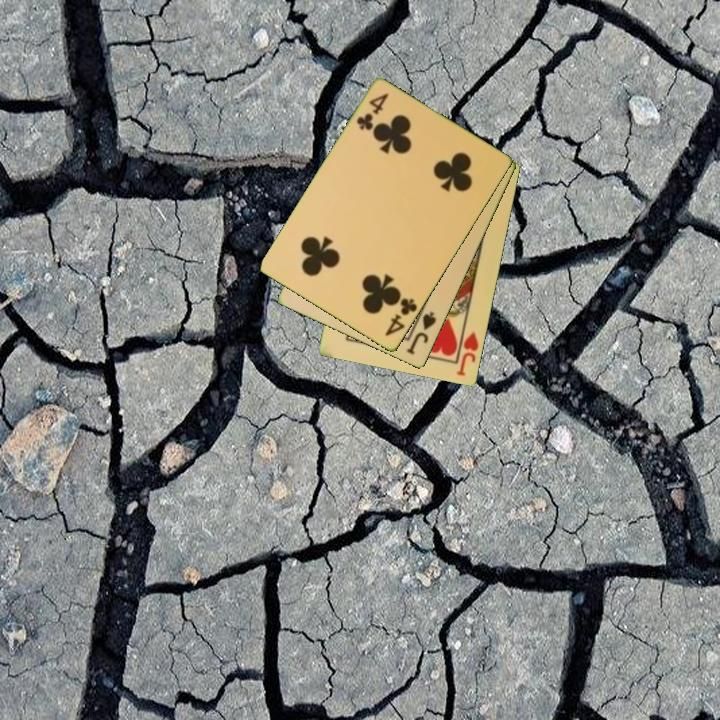4c: (381, 295, 421, 339), (353, 90, 392, 134)
Jh: (453, 329, 482, 379)
Js: (403, 308, 439, 358)
